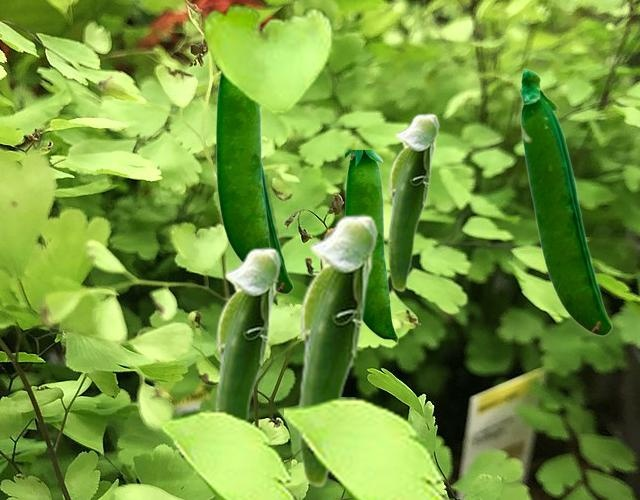pea: (518, 67, 611, 335), (297, 214, 378, 487), (214, 247, 281, 420), (216, 68, 270, 261), (345, 150, 397, 343), (387, 113, 439, 291), (263, 163, 292, 293)
